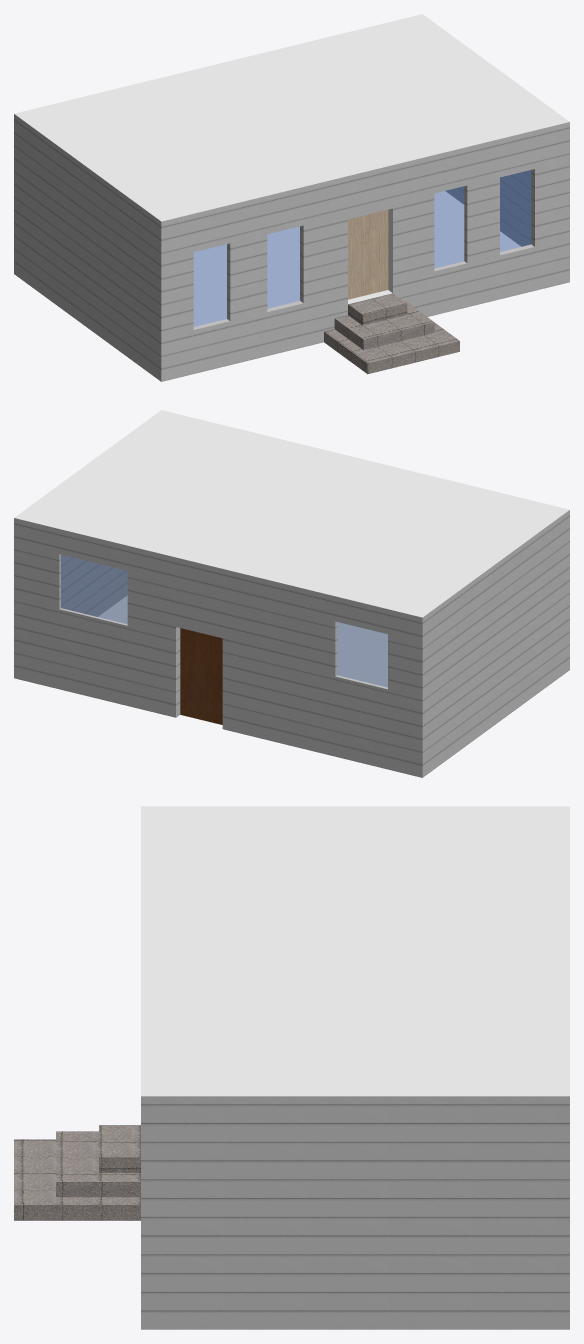
The model's file is maison3_floor.dae.
The picture shows the model from 3 angles, top to bottom: view 1: azimuth 30°, elevation 25°; view 2: azimuth 150°, elevation 25°; view 3: azimuth 270°, elevation 25°; orthographic projection. The views are drawn at different scales.
Visible parts, largest first — view 1: group_0 (×9); view 2: group_0 (×6); view 3: group_0 (×3).
Boxes of the visible parts, box(x1,y1,x2,y2) form: group_0 (×9): box(14, 14, 569, 381); group_0 (×6): box(14, 410, 569, 777); group_0 (×3): box(14, 806, 569, 1329).
Bounding box in the file's own units: 315 × 255 × 118.
6 materials, 4 textured.
